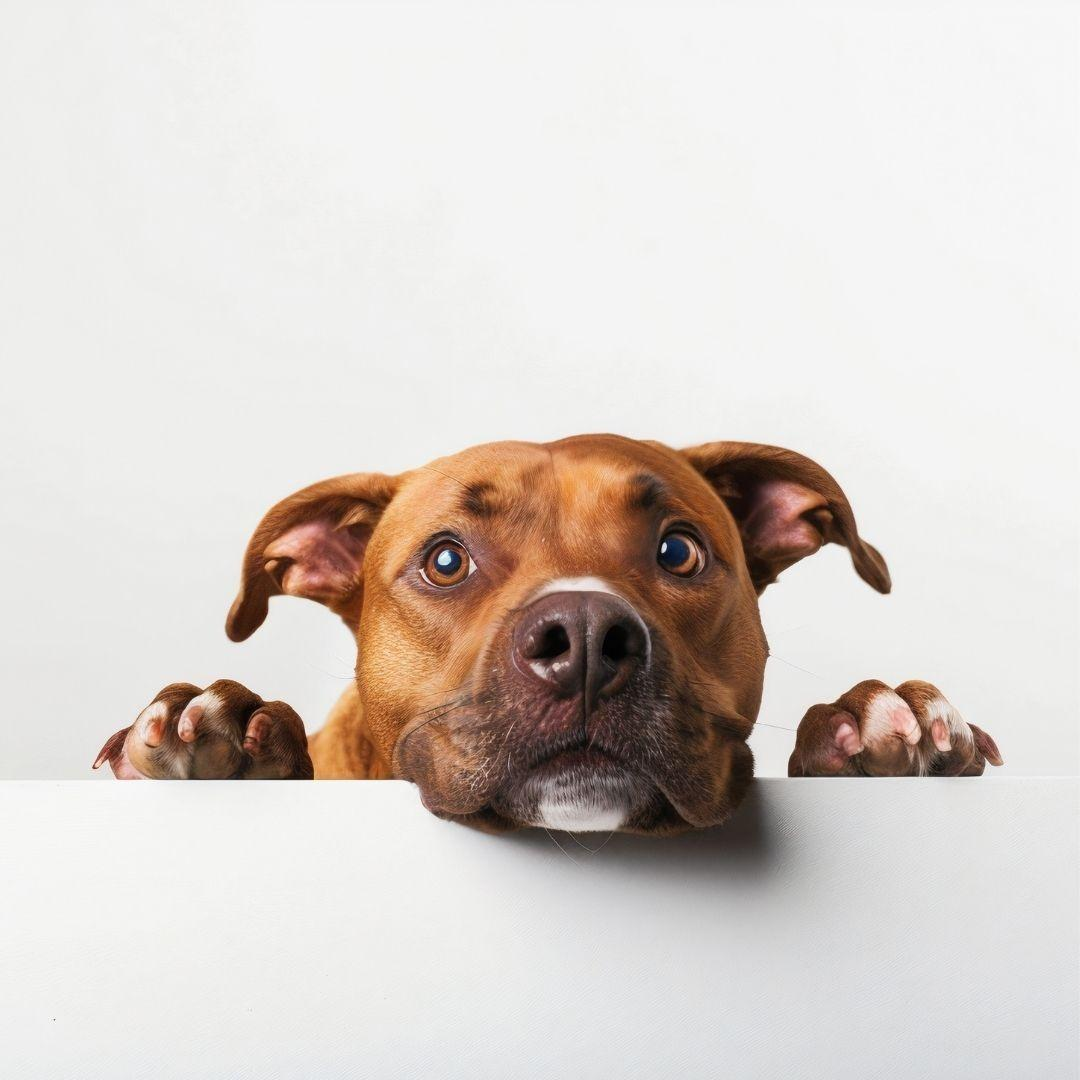adult_dog: (90, 432, 1007, 839)
